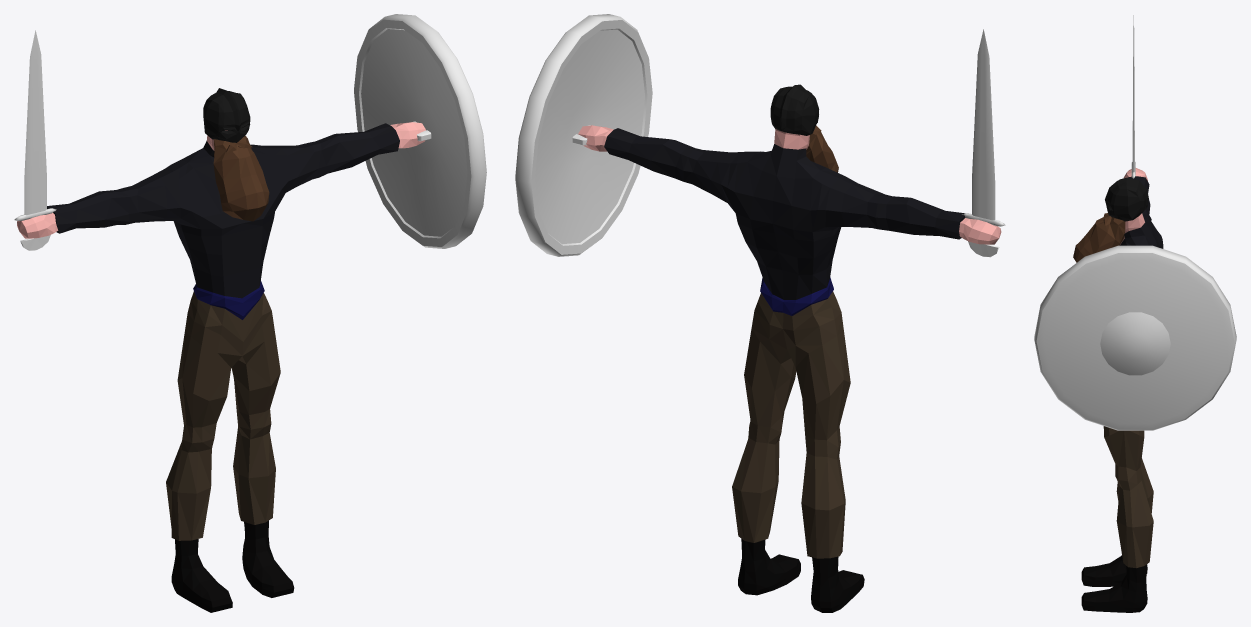
Rendered from SwordMan.FBX.
The picture shows the model from 3 angles, left to right: view 1: azimuth 30°, elevation 25°; view 2: azimuth 150°, elevation 25°; view 3: azimuth 270°, elevation 25°; orthographic projection. The views are drawn at different scales.
Parts seen in each view (by area): view 1: body, Mesh_Shield, Axe_Beard, Mesh_Sword; view 2: body, Mesh_Shield, Mesh_Sword, Axe_Beard; view 3: Mesh_Shield, body, Axe_Beard, Mesh_Sword.
Boxes of the visible parts, x1,y1,x2,y2 form: body: (17,122,425,612); Mesh_Shield: (354,14,486,248); Axe_Beard: (203,88,269,221); Mesh_Sword: (14,30,56,250); body: (578,125,1001,612); Mesh_Shield: (515,14,652,256); Mesh_Sword: (962,29,1005,257); Axe_Beard: (770,84,838,172); Mesh_Shield: (1034,245,1236,430); body: (1081,168,1163,612); Axe_Beard: (1073,177,1148,262); Mesh_Sword: (1131,15,1135,178).
Size of the model in its own units: 73.32 by 97.25 by 35.4.
